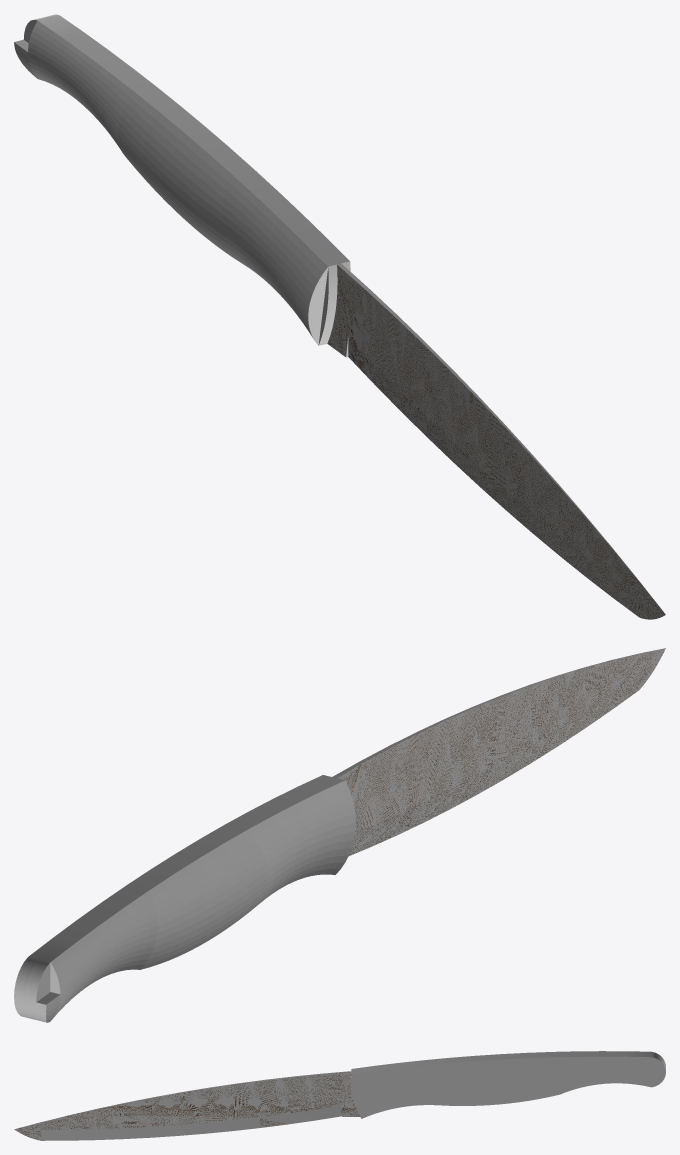
The model's file is model_scale.obj.
The picture shows the model from 3 angles, top to bottom: view 1: azimuth 30°, elevation 25°; view 2: azimuth 150°, elevation 25°; view 3: azimuth 270°, elevation 25°; orthographic projection. The views are drawn at different scales.
Visible parts, largest first — view 1: mesh1_mesh1-geometry; view 2: mesh1_mesh1-geometry; view 3: mesh1_mesh1-geometry.
Boxes of the visible parts, bbox=[...] form: mesh1_mesh1-geometry: bbox=[14, 14, 665, 619]; mesh1_mesh1-geometry: bbox=[14, 648, 665, 1022]; mesh1_mesh1-geometry: bbox=[14, 1051, 665, 1140].
Bounding box in the file's own units: 0.00791 × 0.0347 × 0.2358.
